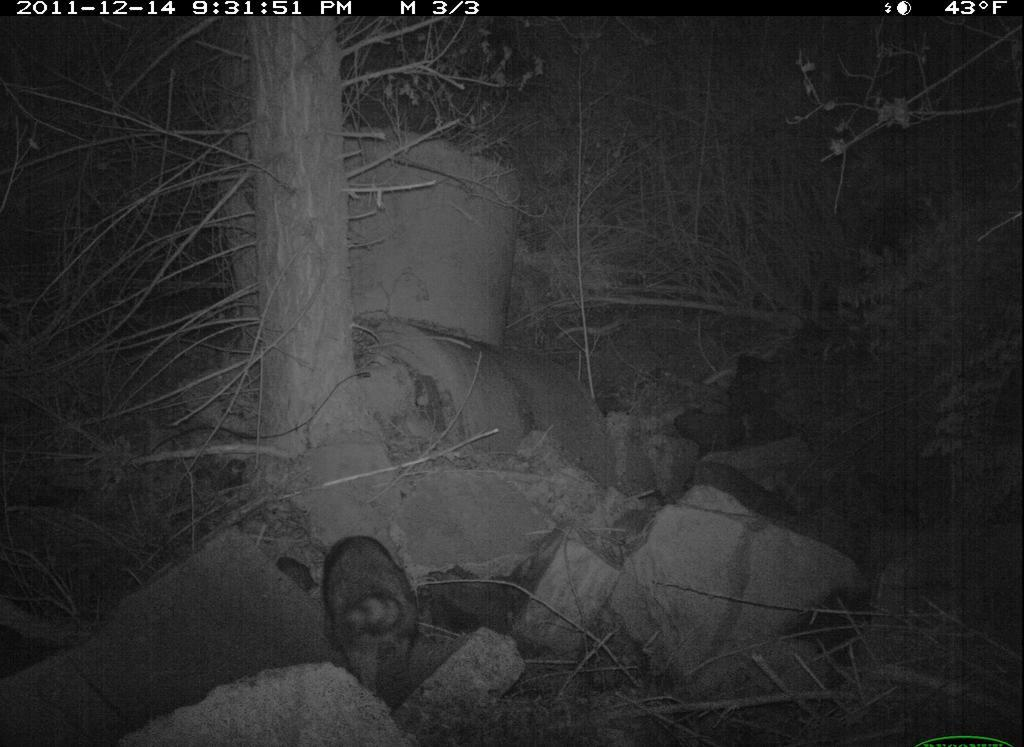raccoon: (289, 518, 434, 698)
